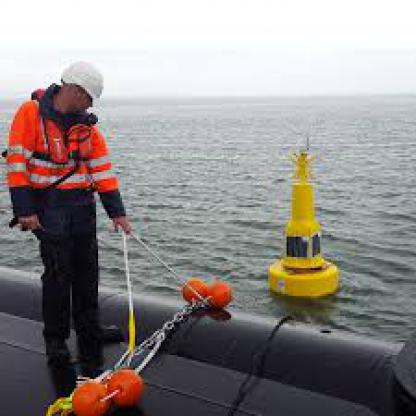buoy: (268, 128, 346, 305)
